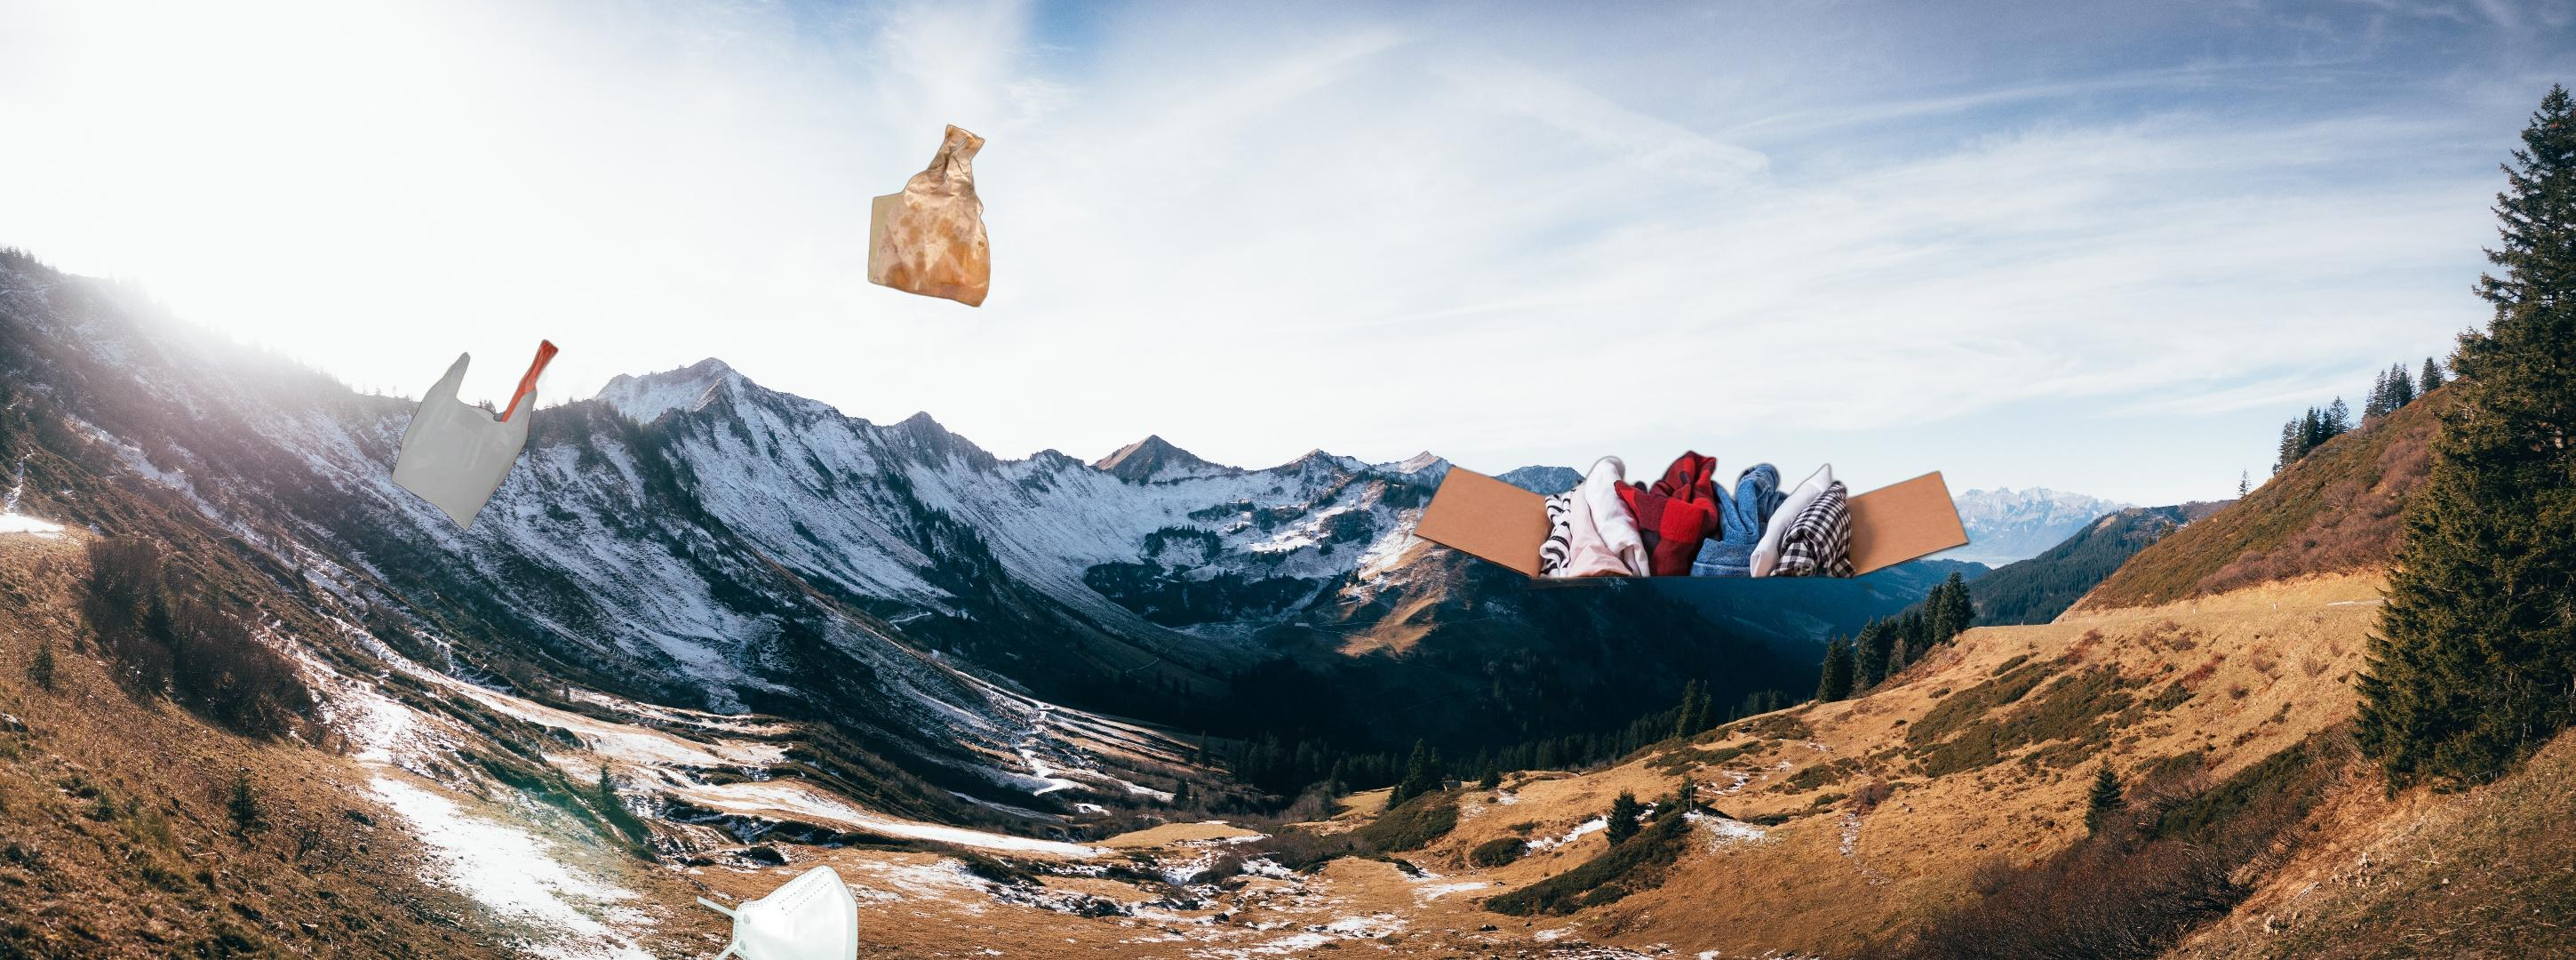paper-bag: (866, 122, 992, 311)
plastic-bag: (389, 334, 600, 534)
trash: (693, 863, 861, 960)
trashbox-cardboard: (1405, 445, 1976, 810)
